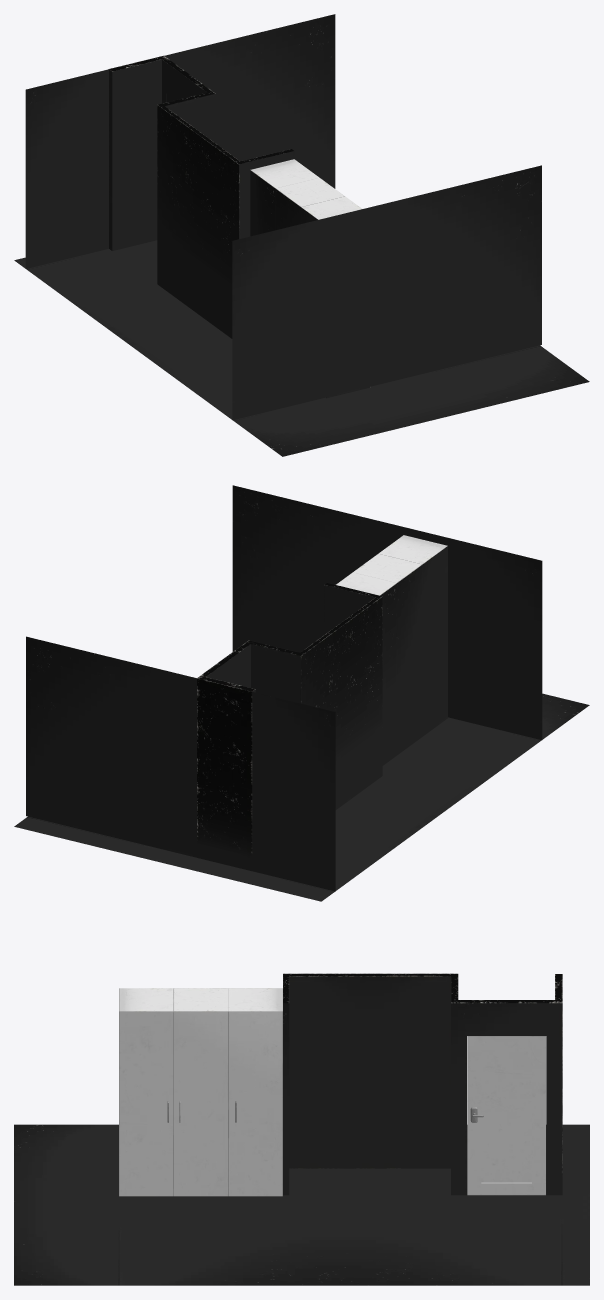
The model's file is environment.glb.
3 renders of one model, top to bottom at view 1: azimuth 30°, elevation 25°; view 2: azimuth 150°, elevation 25°; view 3: azimuth 270°, elevation 25°, orthographic. The views are drawn at different scales.
Visible parts, largest first — view 1: back-wall; view 2: back-wall; view 3: back-wall, door.
Boxes of the visible parts, x1,y1,x2,y2 form: back-wall: (14, 14, 589, 456); back-wall: (14, 485, 589, 901); back-wall: (14, 973, 589, 1285); door: (467, 1036, 545, 1195).
Bounding box in the file's own units: 4.39 × 2.47 × 6.59.
Materials: 1 (1 with a texture image).
